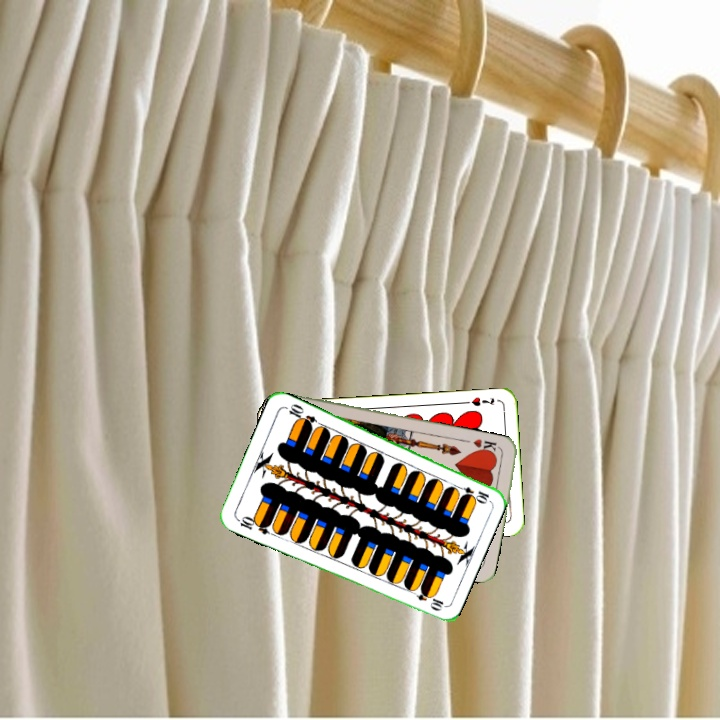E10: (233, 512, 273, 537), (452, 481, 492, 504)
H7: (460, 393, 497, 409)
HK: (469, 435, 504, 457)
